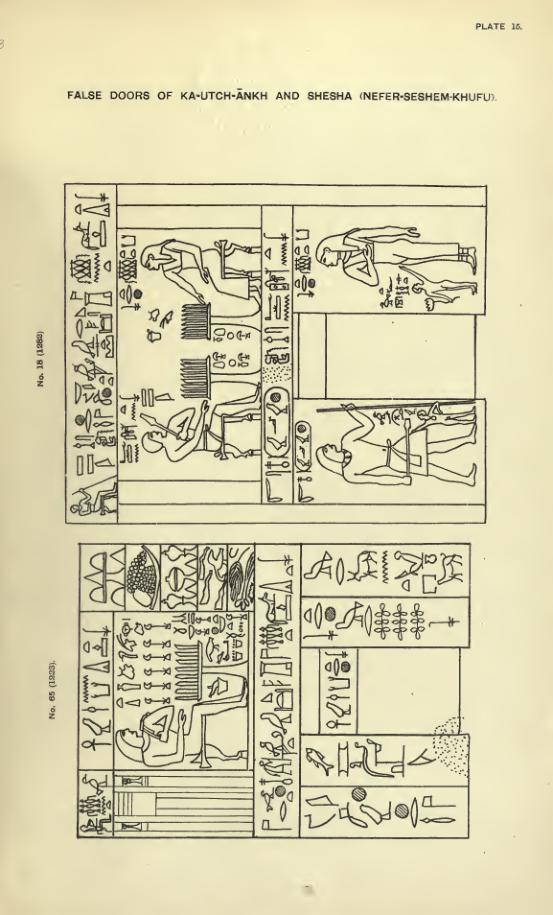circle: (262, 386, 291, 459), (293, 420, 317, 476)
